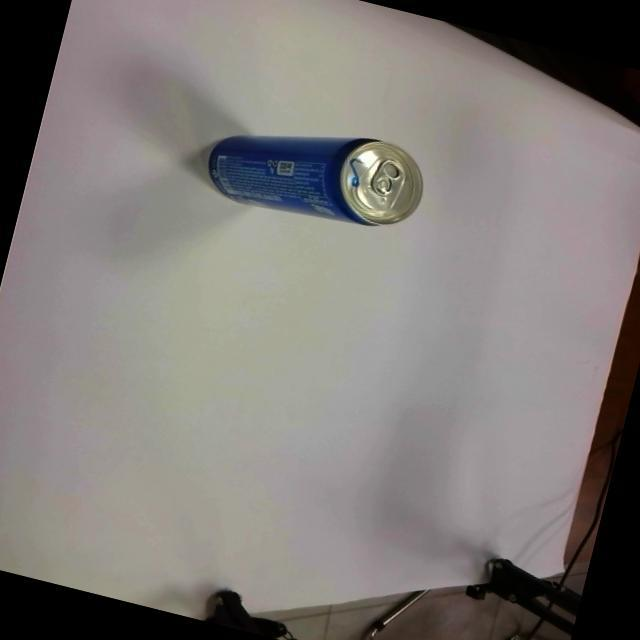debris: (198, 100, 433, 246)
